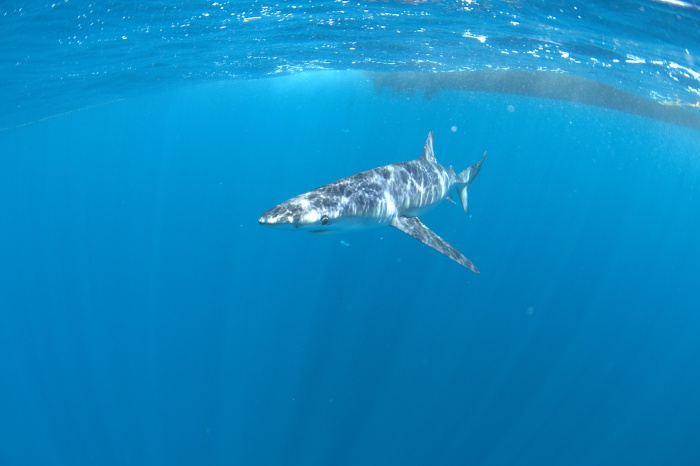Azul: (252, 121, 489, 278)
